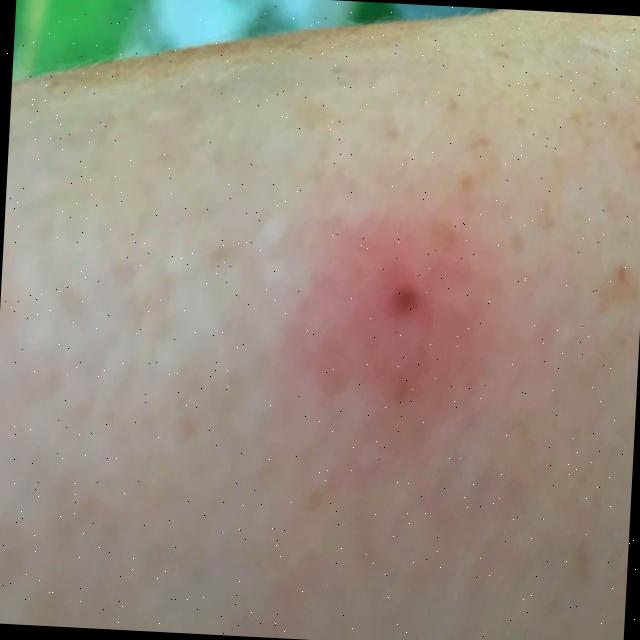sinek: (334, 236, 478, 400)
